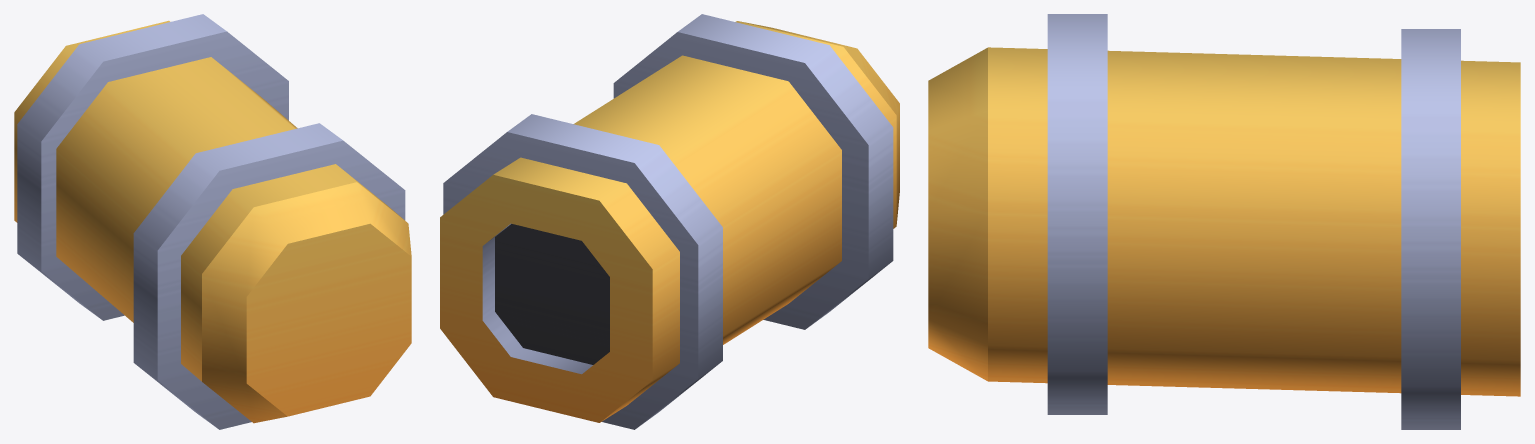
Rendered from scifi-container-flat-open.fbx.
3 views of the same model, side by side, from view 1: azimuth 30°, elevation 25°; view 2: azimuth 150°, elevation 25°; view 3: azimuth 270°, elevation 25° (orthographic). The views are drawn at different scales.
Parts seen in each view (by area): view 1: scifi-container-flat-open; view 2: scifi-container-flat-open; view 3: scifi-container-flat-open.
Part boxes in pixels (x1,y1,x2,y2): scifi-container-flat-open: (14, 14, 411, 429); scifi-container-flat-open: (440, 14, 899, 429); scifi-container-flat-open: (928, 14, 1520, 429).
Bounding box in the file's own units: 0.6595 × 0.9909 × 0.6.
